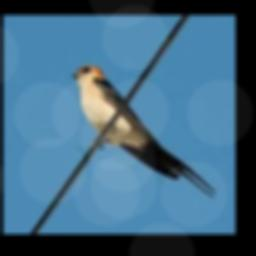Swallow: (70, 64, 216, 198)
